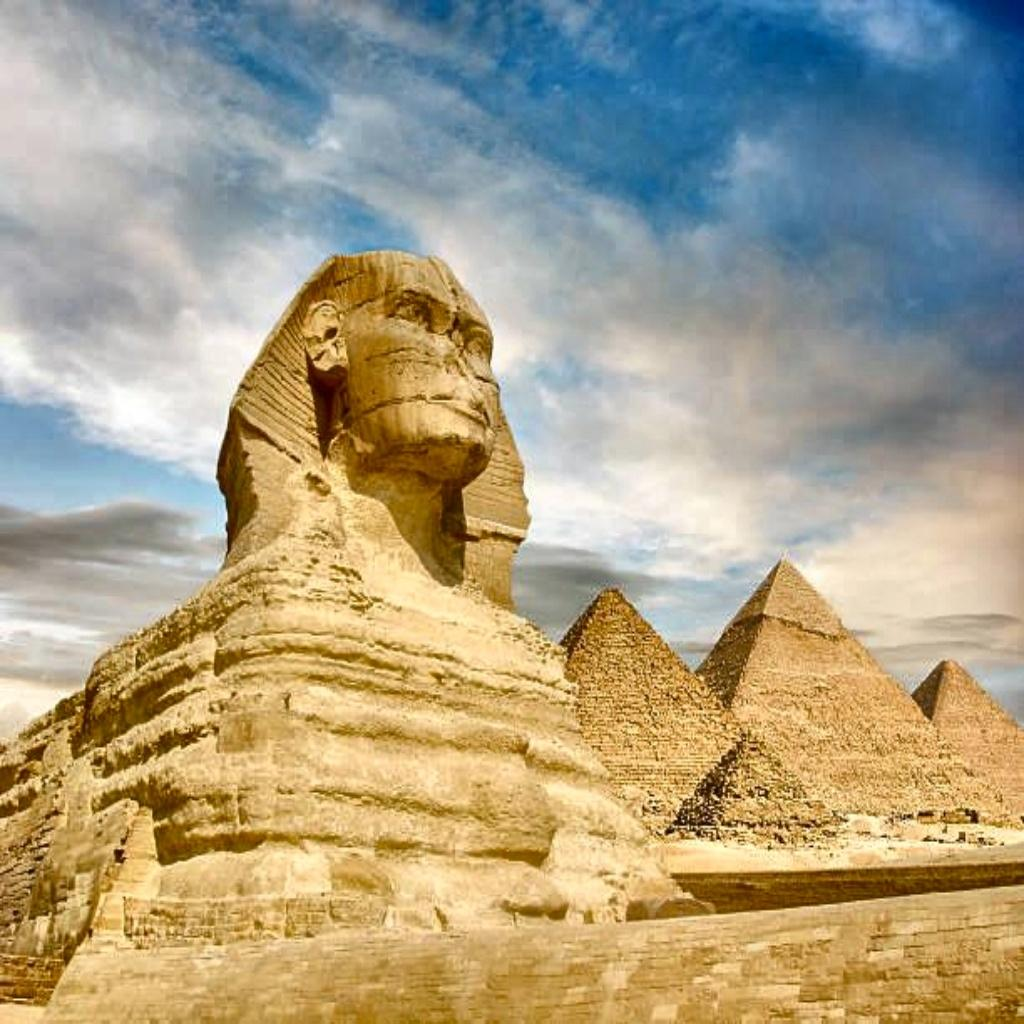Sphinx: (0, 246, 714, 994)
